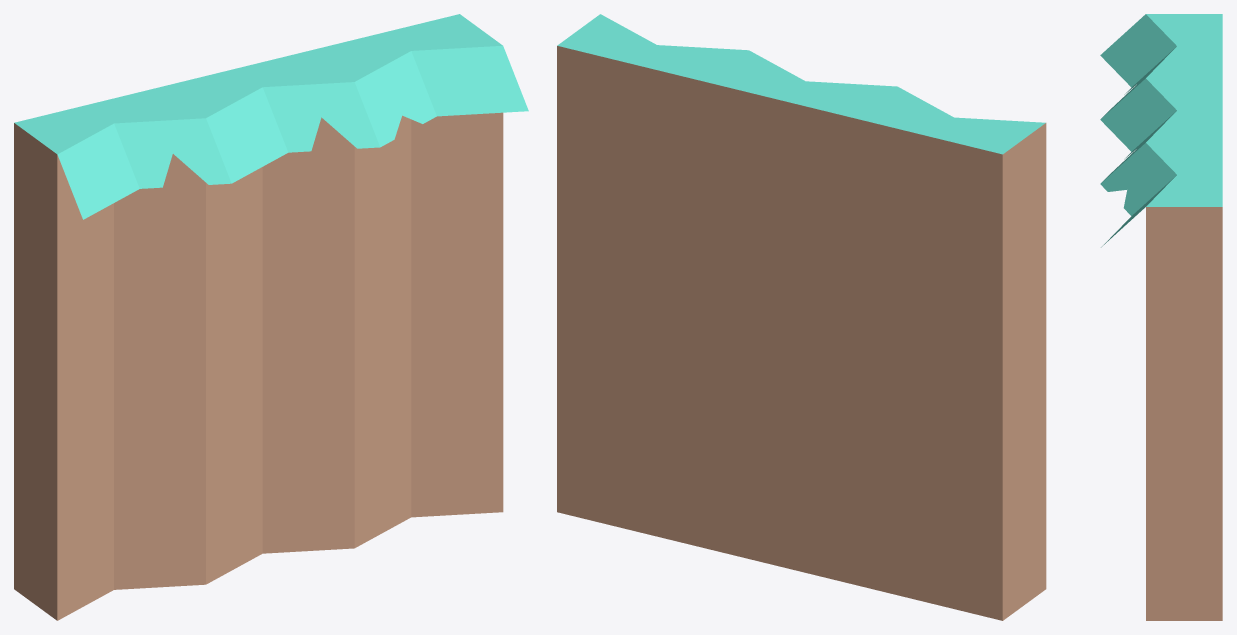
Rendered from cliff_top_rock.gltf.
3 renders of one model, left to right at view 1: azimuth 30°, elevation 25°; view 2: azimuth 150°, elevation 25°; view 3: azimuth 270°, elevation 25°, orthographic. The views are drawn at different scales.
Visible parts, largest first — view 1: cliff_top_rock; view 2: cliff_top_rock; view 3: cliff_top_rock.
Part boxes in pixels (bbox=[...]): cliff_top_rock: bbox=[14, 14, 528, 620]; cliff_top_rock: bbox=[557, 14, 1046, 620]; cliff_top_rock: bbox=[1100, 14, 1222, 620].
Bounding box in the file's own units: 1 × 1 × 0.2685.
